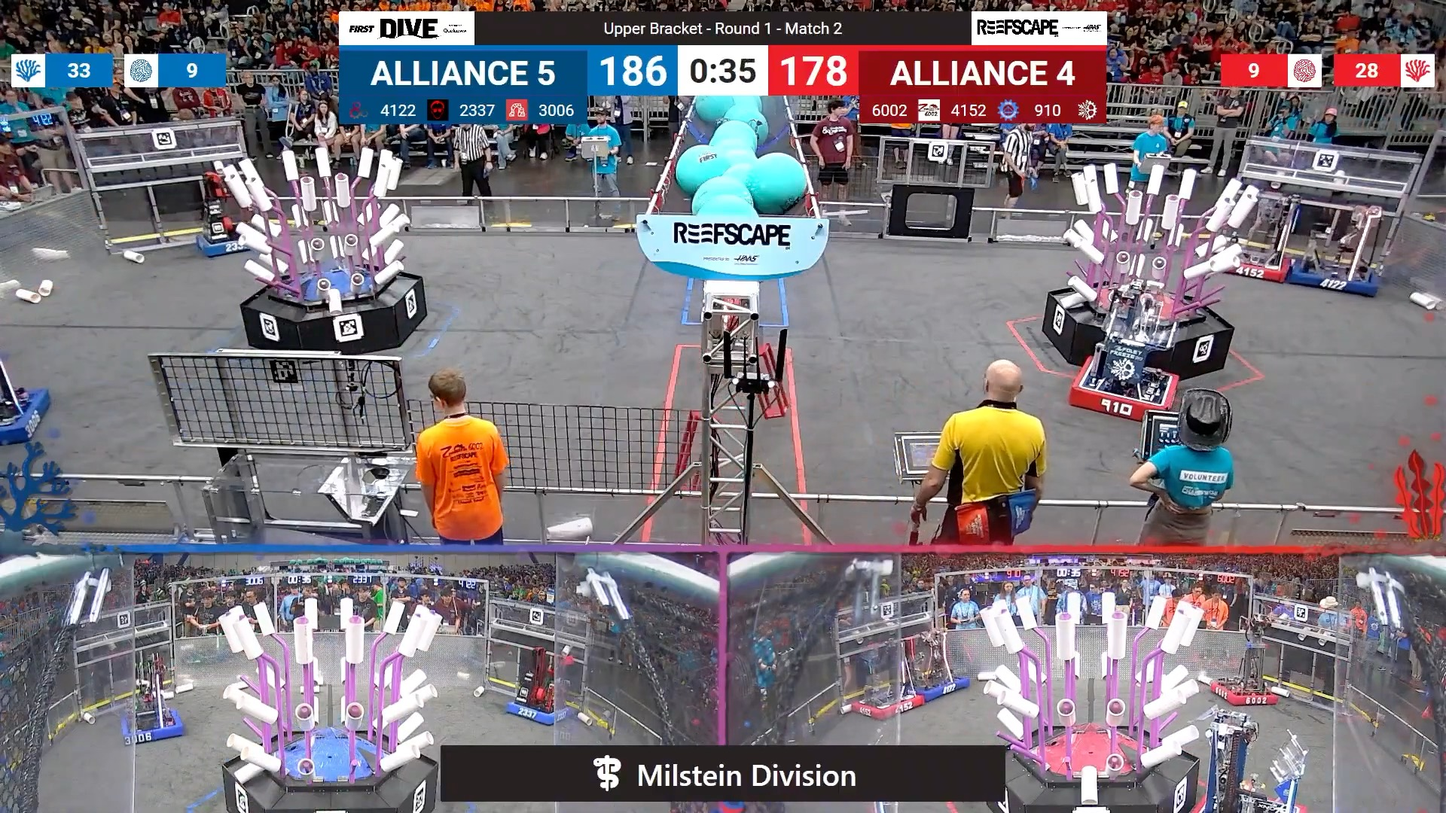bumpers: (1061, 359, 1182, 425), (0, 385, 63, 455), (1279, 261, 1391, 300), (116, 704, 191, 749), (500, 694, 578, 730), (844, 687, 929, 720), (189, 225, 268, 260), (1206, 678, 1283, 708)
